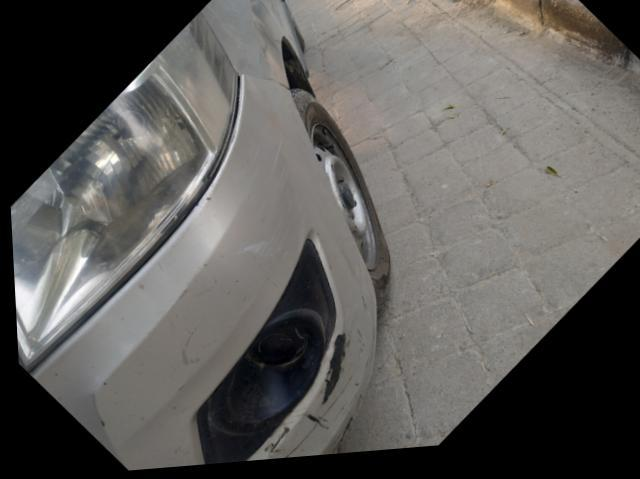scratch: (254, 333, 359, 464)
